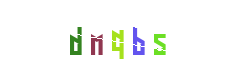B: (90, 0, 170, 80)
D: (35, 0, 115, 80)
M: (57, 0, 137, 80)
Q: (82, 0, 162, 80)
S: (97, 0, 177, 80)
